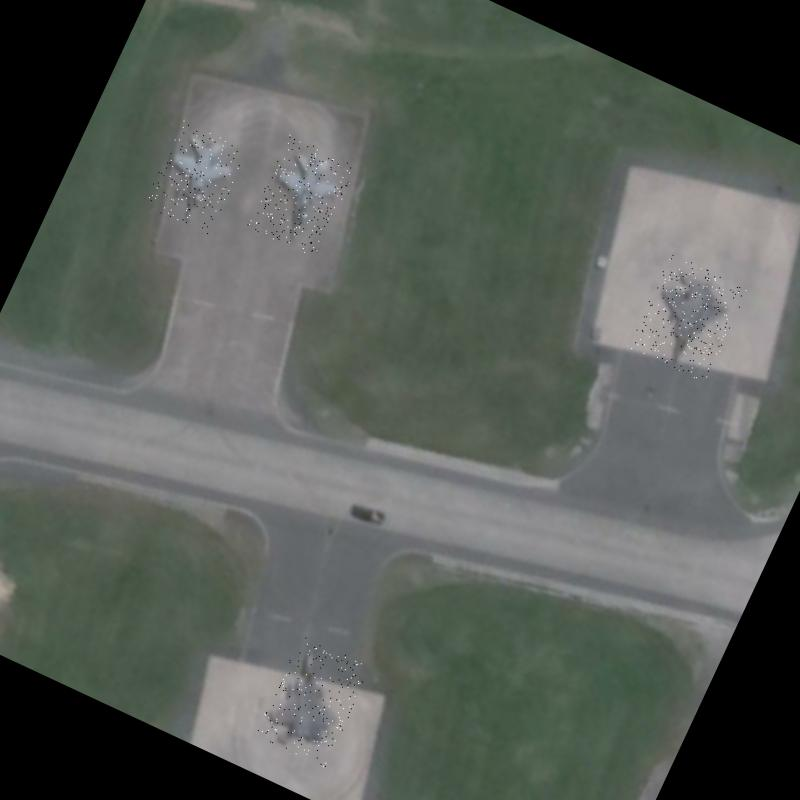A13: (626, 253, 748, 384), (254, 634, 372, 768)
A16: (246, 134, 357, 258), (142, 117, 249, 236)
